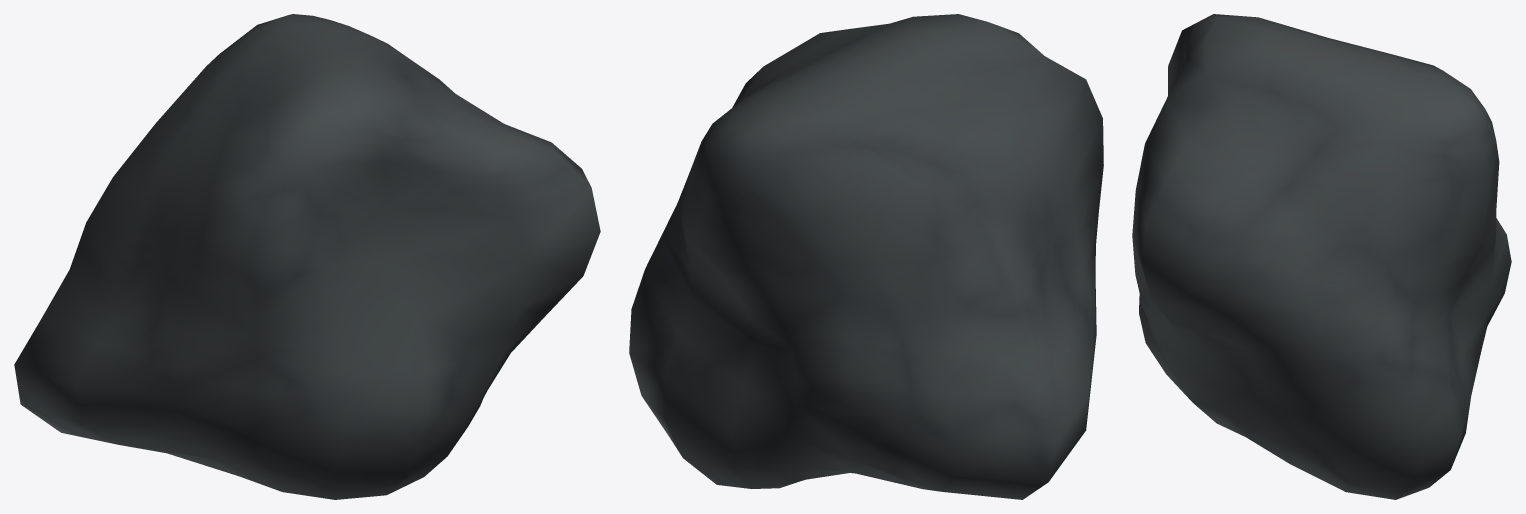
The model's file is Asteroid-05.fbx.
3 views of the same model, side by side, from view 1: azimuth 30°, elevation 25°; view 2: azimuth 150°, elevation 25°; view 3: azimuth 270°, elevation 25° (orthographic). The views are drawn at different scales.
Parts seen in each view (by area): view 1: Asteroid_Opt05_LOD0; view 2: Asteroid_Opt05_LOD0; view 3: Asteroid_Opt05_LOD0.
Part boxes in pixels (x1,y1,x2,y2): Asteroid_Opt05_LOD0: (14,14,600,499); Asteroid_Opt05_LOD0: (629,14,1103,499); Asteroid_Opt05_LOD0: (1132,14,1511,499).
Size of what is drawn, in the model's own units: 208 by 193 by 163.
